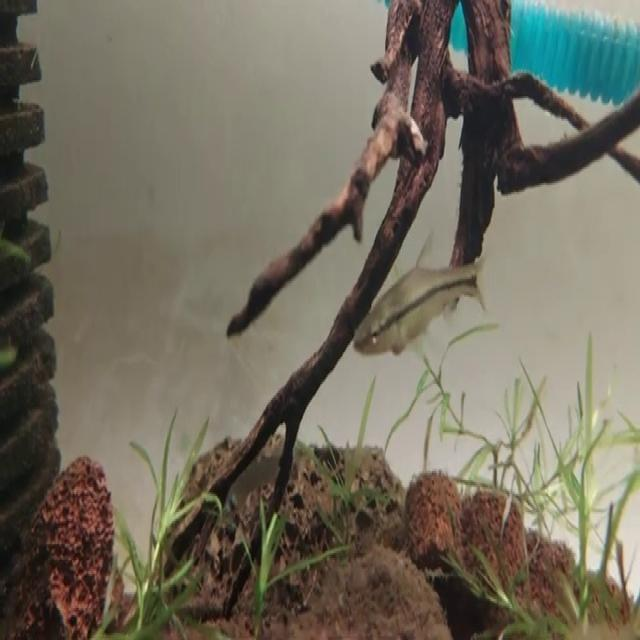Cakil Baligi: (351, 235, 487, 359)
